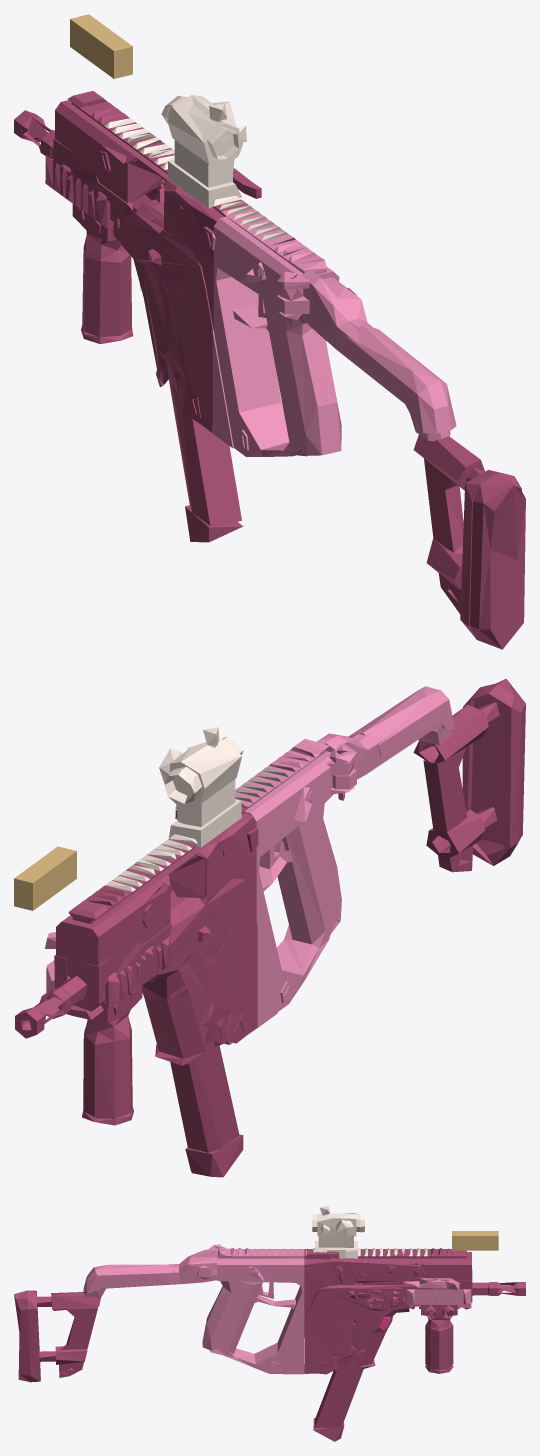
Rendered from SMG_Vector.obj.
The picture shows the model from 3 angles, top to bottom: view 1: azimuth 30°, elevation 25°; view 2: azimuth 150°, elevation 25°; view 3: azimuth 270°, elevation 25°; orthographic projection. The views are drawn at different scales.
Parts seen in each view (by area): view 1: Mag, Body, Grip, Panel, Bolt; view 2: Mag, Body, Grip, Panel, Bolt; view 3: Mag, Body, Grip, Panel, Bolt.
Part boxes in pixels (x1,y1,x2,y2): Mag: (14, 91, 261, 542); Body: (162, 184, 456, 456); Grip: (413, 434, 525, 649); Panel: (105, 95, 288, 240); Bolt: (70, 14, 132, 78); Mag: (15, 806, 258, 1177); Body: (45, 686, 454, 1027); Grip: (413, 678, 525, 872); Panel: (105, 727, 288, 891); Bolt: (14, 846, 76, 910); Mag: (304, 1248, 525, 1441); Body: (83, 1244, 471, 1374); Grip: (14, 1290, 100, 1382); Panel: (261, 1206, 427, 1258); Bolt: (452, 1231, 498, 1250).
Size of the model in its own units: 0.2133 by 1.1 by 2.2.
